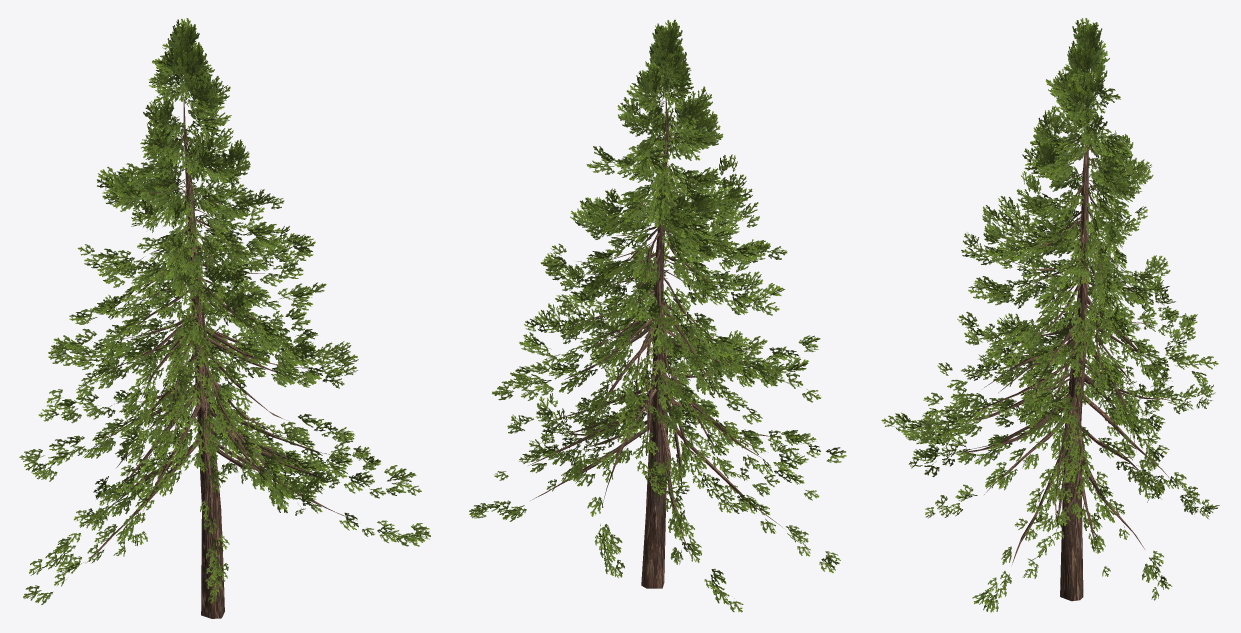
The model's file is PINELRG.OBJ.
3 views of the same model, side by side, from view 1: azimuth 30°, elevation 25°; view 2: azimuth 150°, elevation 25°; view 3: azimuth 270°, elevation 25° (orthographic). The views are drawn at different scales.
Visible parts, largest first — view 1: Mesh_1, Mesh_0; view 2: Mesh_1, Mesh_0; view 3: Mesh_1, Mesh_0.
Part boxes in pixels (left/top/right/bottom): Mesh_1: left=19, top=18, right=430, bottom=604; Mesh_0: left=85, top=93, right=356, bottom=618; Mesh_1: left=469, top=19, right=846, bottom=612; Mesh_0: left=528, top=86, right=782, bottom=588; Mesh_1: left=881, top=18, right=1219, bottom=612; Mesh_0: left=949, top=105, right=1175, bottom=601.
Bounding box in the file's own units: 44.6 × 68.18 × 37.98.
Materials: 2 (2 with a texture image).
